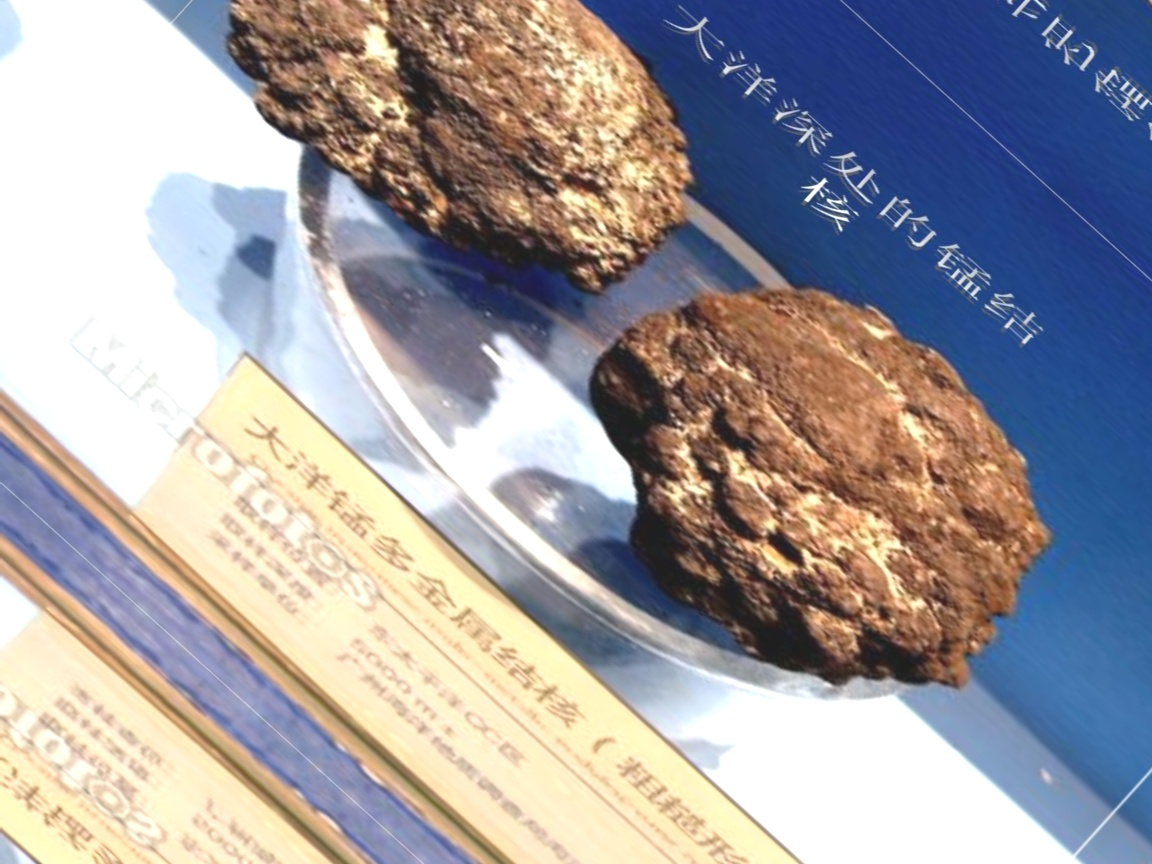halobolite: (568, 286, 1062, 707), (166, 1, 739, 295)
